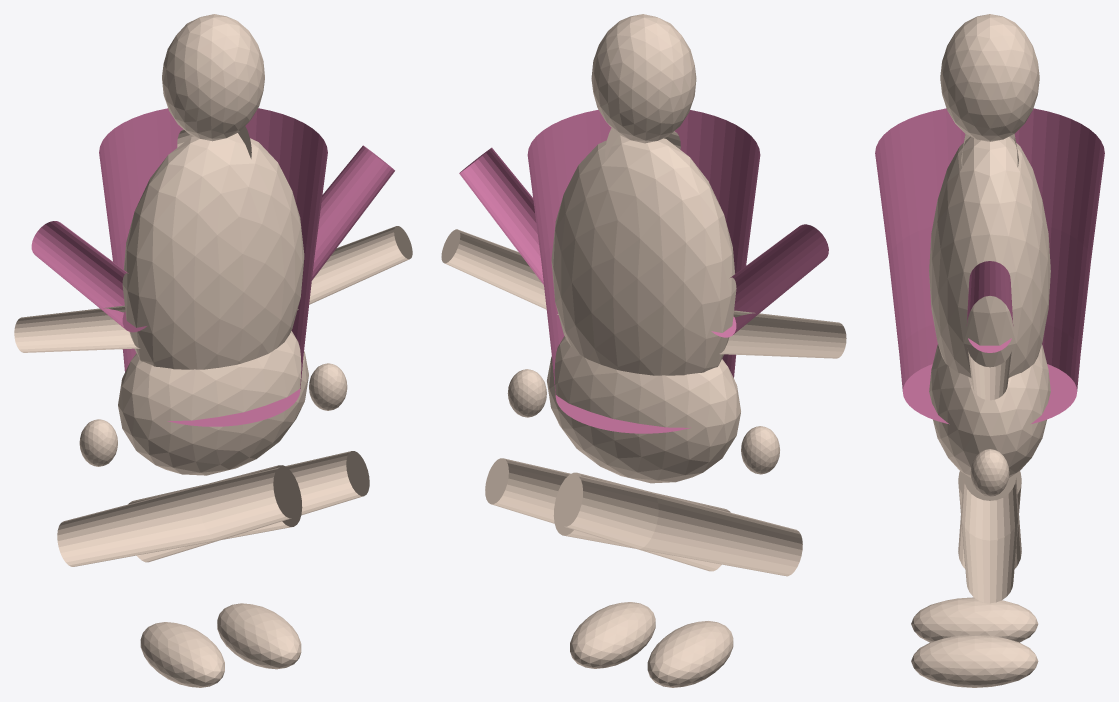
File: femenino-blusa.glb
The picture shows the model from 3 angles, left to right: view 1: azimuth 30°, elevation 25°; view 2: azimuth 150°, elevation 25°; view 3: azimuth 270°, elevation 25°; orthographic projection.
Parts seen in each view (by area): view 1: Avatar0, Prenda, Avatar1, Avatar3, Avatar4, Avatar8, Avatar6, Avatar9, Avatar5, Avatar10, Avatar7, Avatar11; view 2: Avatar0, Prenda, Avatar1, Avatar3, Avatar4, Avatar8, Avatar6, Avatar5, Avatar9, Avatar10, Avatar11, Avatar7; view 3: Prenda, Avatar0, Avatar3, Avatar1, Avatar9, Avatar5, Avatar8, Avatar4, Avatar11, Avatar10.
Part boxes in pixels (<box>): Avatar0: <box>122,133,304,369</box>; Prenda: <box>31,108,394,426</box>; Avatar1: <box>118,331,308,475</box>; Avatar3: <box>162,14,264,141</box>; Avatar4: <box>57,465,302,566</box>; Avatar8: <box>128,451,369,562</box>; Avatar6: <box>14,305,140,352</box>; Avatar9: <box>217,603,301,669</box>; Avatar5: <box>140,622,224,687</box>; Avatar10: <box>297,226,412,309</box>; Avatar7: <box>79,419,117,466</box>; Avatar11: <box>309,363,347,410</box>; Avatar0: <box>551,135,736,375</box>; Prenda: <box>459,109,828,433</box>; Avatar1: <box>547,336,740,483</box>; Avatar3: <box>591,14,696,143</box>; Avatar4: <box>553,472,802,576</box>; Avatar8: <box>485,458,730,571</box>; Avatar6: <box>719,310,846,358</box>; Avatar5: <box>647,621,733,687</box>; Avatar9: <box>570,602,655,668</box>; Avatar10: <box>441,229,558,314</box>; Avatar11: <box>507,369,546,417</box>; Avatar7: <box>741,426,779,474</box>; Prenda: <box>875,108,1104,424</box>; Avatar0: <box>929,136,1050,377</box>; Avatar3: <box>940,14,1039,141</box>; Avatar1: <box>929,344,1050,477</box>; Avatar9: <box>911,634,1038,687</box>; Avatar5: <box>911,597,1038,642</box>; Avatar8: <box>958,471,1021,603</box>; Avatar4: <box>958,478,1021,568</box>; Avatar11: <box>970,449,1009,496</box>; Avatar10: <box>968,351,1011,400</box>.
Size of the model in its own units: 1.61 by 2.58 by 0.83.
